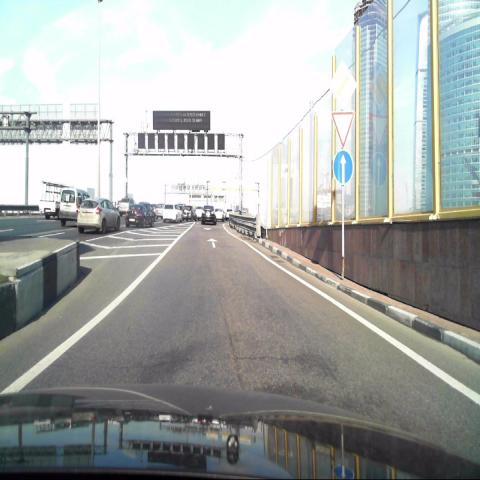4_1_1: (331, 150, 353, 186)
